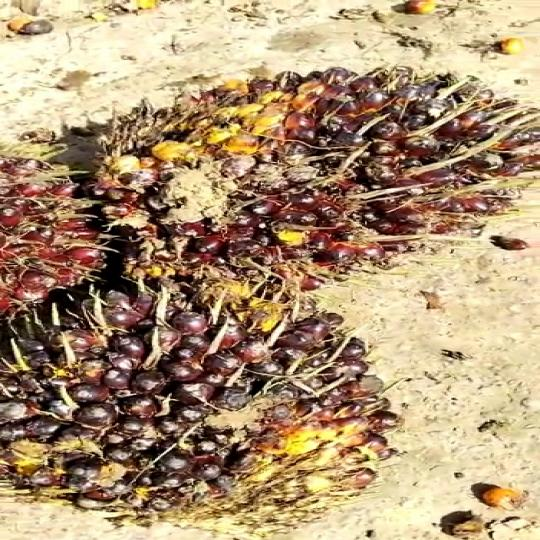kurang masak: (74, 61, 540, 306), (0, 274, 418, 521)
